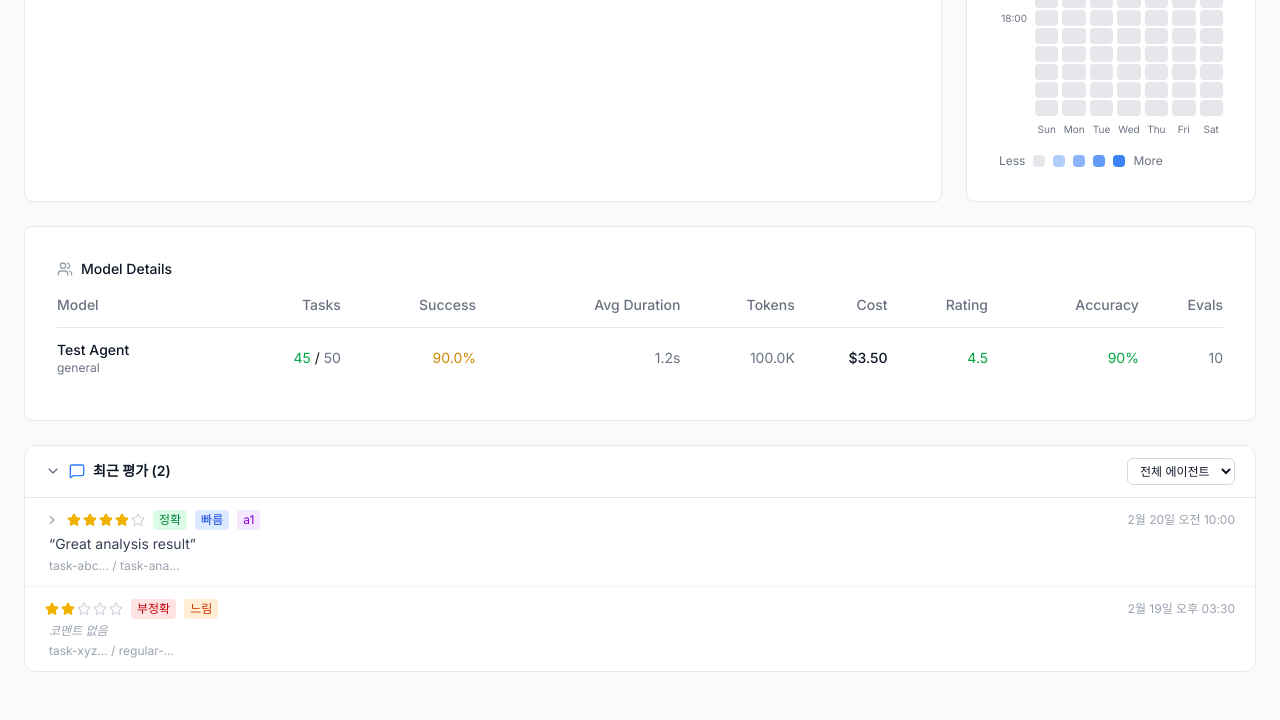
Scenario: AnalyticsPage › shows fallback when analysis detail has no analysis data
(page scrolled)
Expected: the text "“Great analysis result”" is shown, [49,534,196,552]
# Click to expand
Click the text "Great analysis result" at (170, 520), box [25,498,1255,586]
(page scrolled)
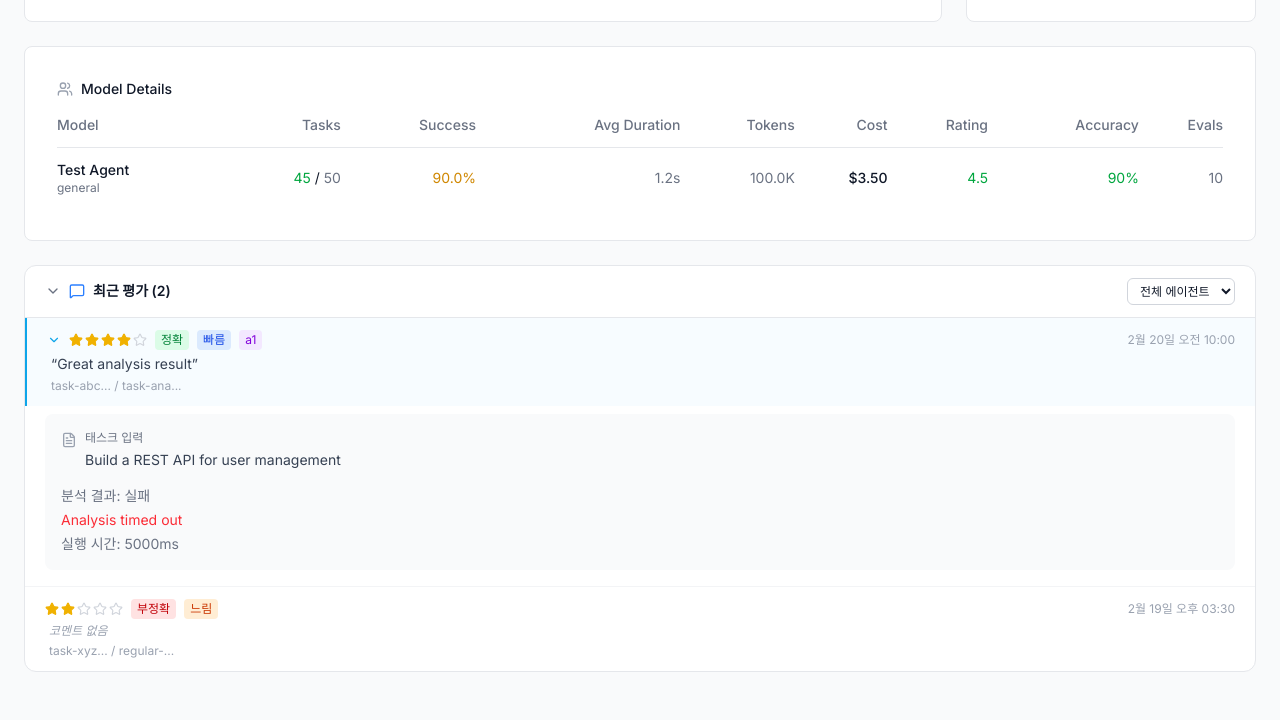
Result: the text "분석 결과: 실패" is shown at [61,486,150,504]
Result: the text "Analysis timed out" is shown at [61,510,182,528]
Result: the text "실행 시간: 5000ms" is shown at [61,534,179,552]
